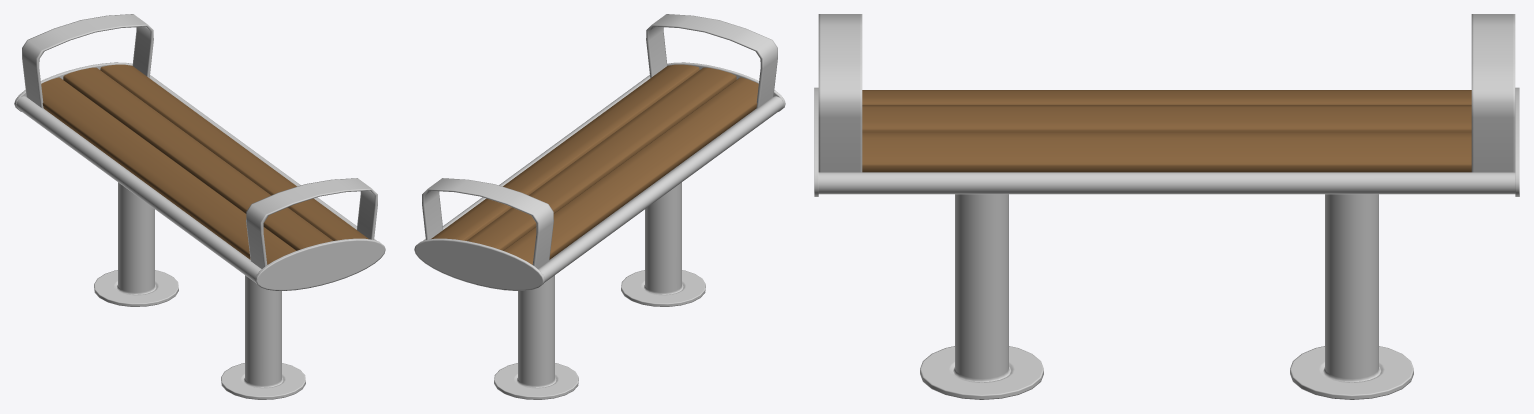
3 views of the same model, side by side, from view 1: azimuth 30°, elevation 25°; view 2: azimuth 150°, elevation 25°; view 3: azimuth 270°, elevation 25° (orthographic). The views are drawn at different scales.
Parts seen in each view (by area): view 1: Circle.000; view 2: Circle.000; view 3: Circle.000.
Boxes of the visible parts, left/top/right/bottom form: Circle.000: left=14, top=14, right=385, bottom=399; Circle.000: left=414, top=14, right=785, bottom=399; Circle.000: left=814, top=14, right=1519, bottom=399.
Bounding box in the file's own units: 200 × 336 × 648.
